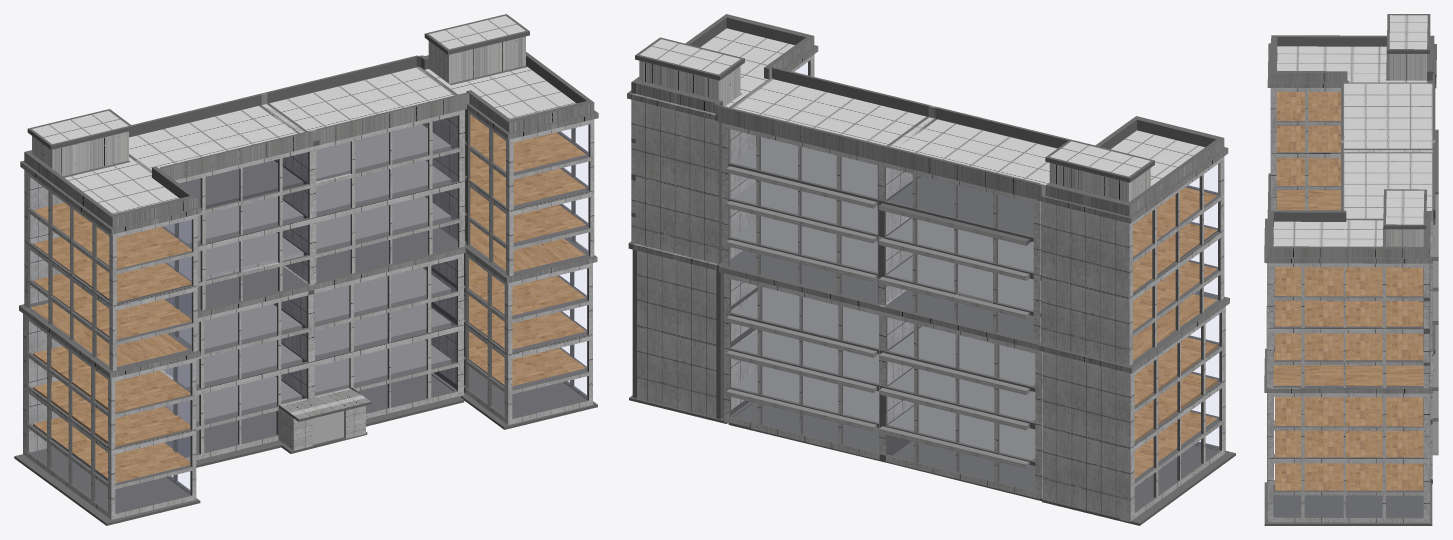
File: edificio.obj
3 renders of one model, left to right at view 1: azimuth 30°, elevation 25°; view 2: azimuth 150°, elevation 25°; view 3: azimuth 270°, elevation 25°, orthographic. The views are drawn at different scales.
Visible parts, largest first — view 1: Departamento, Box005, Box002, Box003, Box001; view 2: Departamento, Box001, Box005, Box003; view 3: Departamento, Box002.
Part boxes in pixels (<box>): Departamento: <box>19,14,598,519</box>; Box005: <box>14,447,200,525</box>; Box002: <box>431,366,597,429</box>; Box003: <box>165,413,283,467</box>; Box001: <box>357,374,464,426</box>; Departamento: <box>627,14,1229,521</box>; Box001: <box>728,403,921,464</box>; Box005: <box>1042,445,1235,525</box>; Box003: <box>896,444,1042,501</box>; Departamento: <box>1264,14,1438,522</box>; Box002: <box>1264,482,1432,525</box>.
Bounding box in the file's own units: 380 × 242 × 128.
